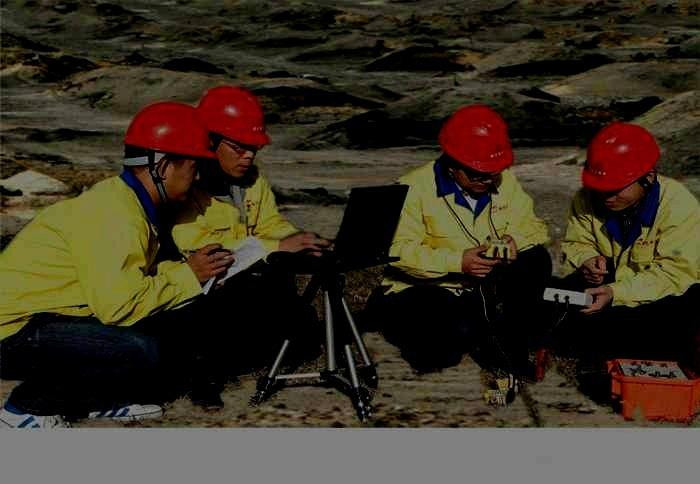helmet: (123, 99, 222, 201), (580, 122, 662, 210), (437, 102, 515, 193), (197, 83, 272, 177)
